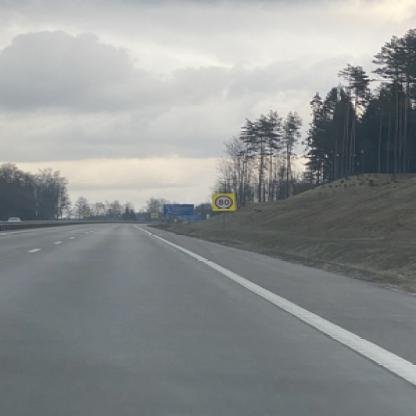speedlimit: (212, 194, 232, 208)
